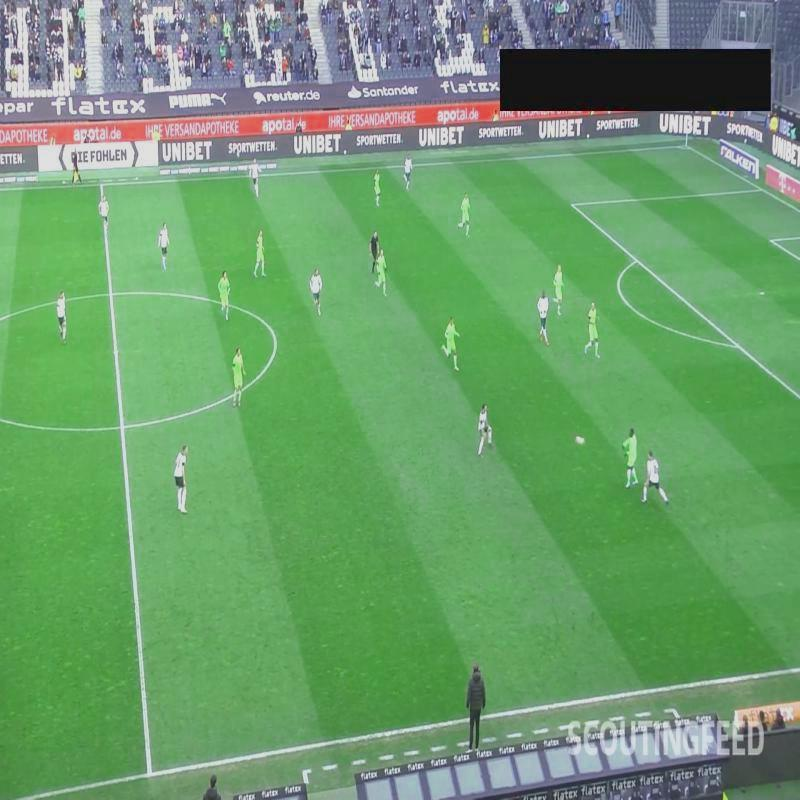1: (678, 140, 693, 155)
10: (631, 255, 645, 269)
11: (732, 340, 746, 354)
13: (95, 178, 109, 192)
14: (103, 287, 117, 301)
15: (114, 419, 128, 435)
16: (140, 763, 160, 785)
2: (754, 183, 768, 197)
7: (764, 234, 778, 248)
9: (565, 198, 579, 212)
c: (268, 328, 282, 342)
